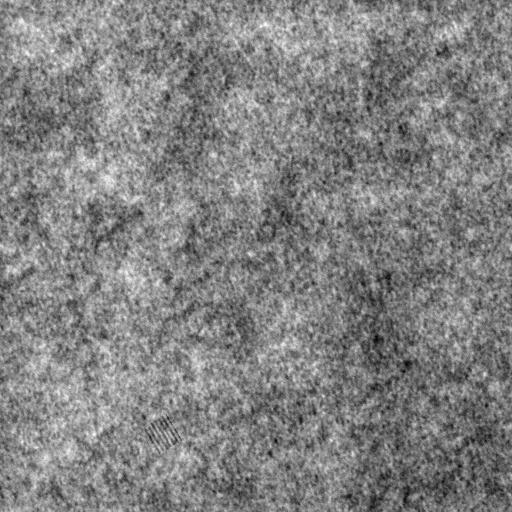DefectTypeB: (145, 415, 180, 454)
